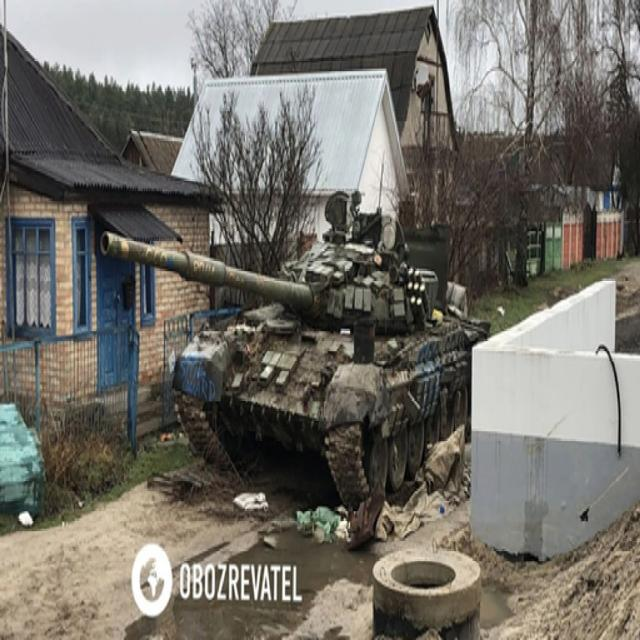TANK: (95, 186, 493, 506)
